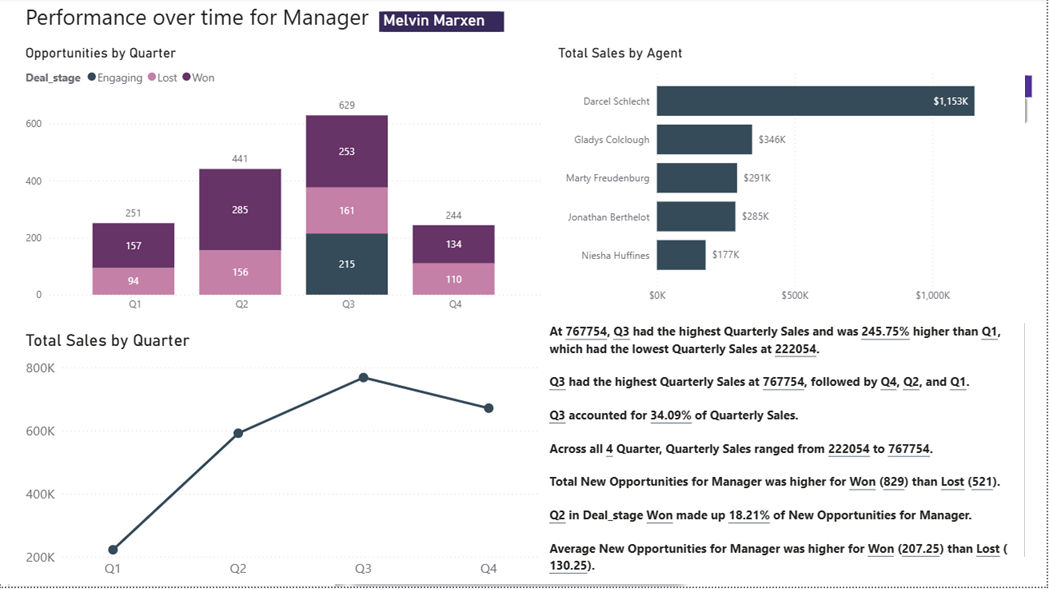

Layout of this report page (visuals, bound fields, positions):
{"tool":"powerbi","page":{"name":"Performance Over Time","canvas":[1280,720],"ordinal":4},"visuals":[{"type":"lineChart","title":"Total Sales by Quarter","fields":{"Y":["Measure.Quarterly Sales"],"Category":["db_Date Table.Quarter"]},"box":[28.1,407.2,638.3,313],"z":0},{"type":"clusteredBarChart","title":"Total Sales by Agent","fields":{"Category":["db_sales_teams.Sales_agent"],"Y":["Measure.Total Sales by Manager"]},"box":[679.9,57.5,587,325.3],"z":3000},{"type":"columnChart","title":"Opportunities by Quarter","fields":{"Category":["db_Date Table.Quarter"],"Series":["db_sales_pipeline.Deal_stage"],"Y":["Measure.New Opportunities for Manager"]},"box":[28.1,57.5,640.8,336.3],"z":4000},{"type":"textbox","box":[668.9,393.8,600.4,326.5],"z":5000},{"type":"textbox","box":[28.1,0,448.8,57.5],"z":6000},{"type":"textbox","box":[465.9,17.1,152.9,24.5],"z":7000}]}

Visuals, with their boxes in screenshot pixels (x1, y1, x2, y2), scaled from the page's 1280x720 canvas onto the 1049x590 screenshot:
"Total Sales by Quarter" lineChart: (left=23, top=334, right=546, bottom=589)
"Total Sales by Agent" clusteredBarChart: (left=557, top=47, right=1038, bottom=314)
"Opportunities by Quarter" columnChart: (left=23, top=47, right=548, bottom=323)
textbox: (left=548, top=323, right=1040, bottom=589)
textbox: (left=23, top=0, right=391, bottom=47)
textbox: (left=382, top=14, right=507, bottom=34)
